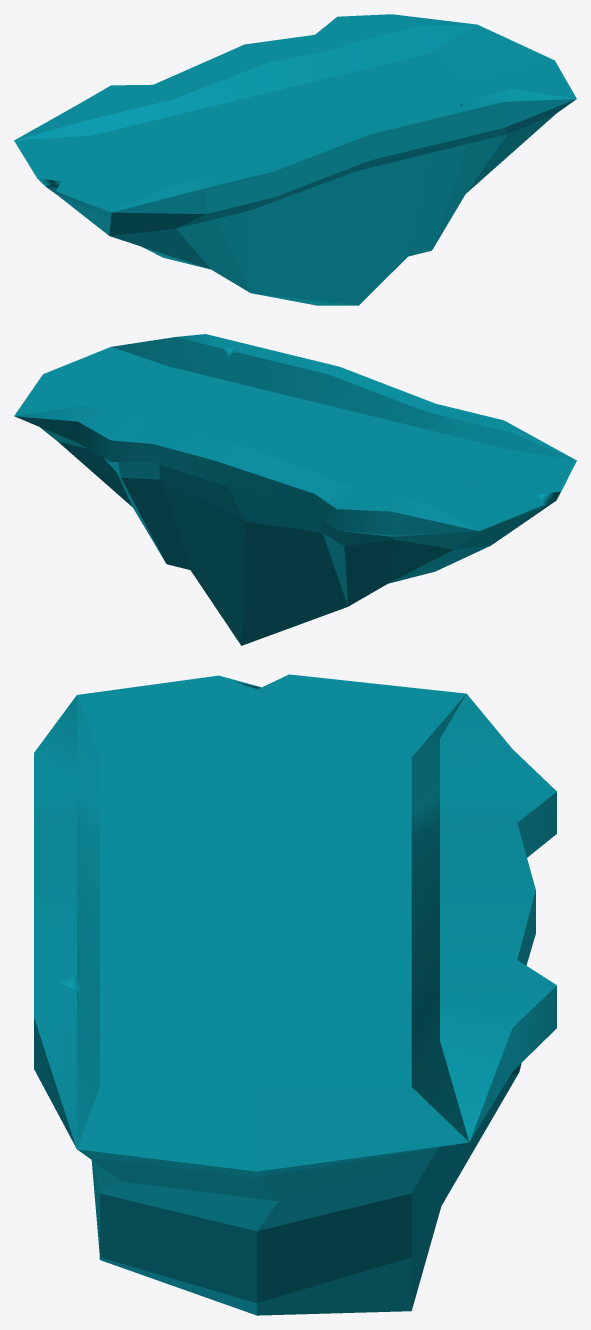
File: Floating_Platform_Med_No_C.fbx
The picture shows the model from 3 angles, top to bottom: view 1: azimuth 30°, elevation 25°; view 2: azimuth 150°, elevation 25°; view 3: azimuth 270°, elevation 25°; orthographic projection. The views are drawn at different scales.
Parts seen in each view (by area): view 1: Medium_Platform_No_C; view 2: Medium_Platform_No_C; view 3: Medium_Platform_No_C.
Boxes of the visible parts, box(x1,y1,x2,y2) form: Medium_Platform_No_C: box(14, 14, 576, 305); Medium_Platform_No_C: box(14, 334, 576, 645); Medium_Platform_No_C: box(34, 674, 556, 1315).
Size of the model in its own units: 3.22 by 1.28 by 1.43.
